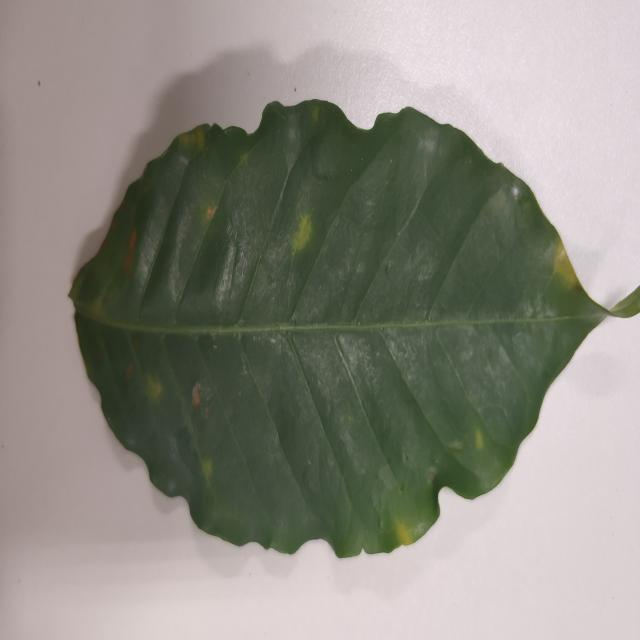Enfermedad-Roya: (68, 100, 640, 562)
